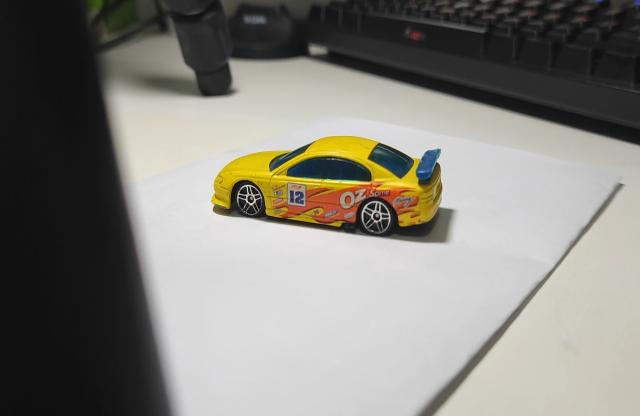02_OZSOME: (211, 136, 442, 237)
